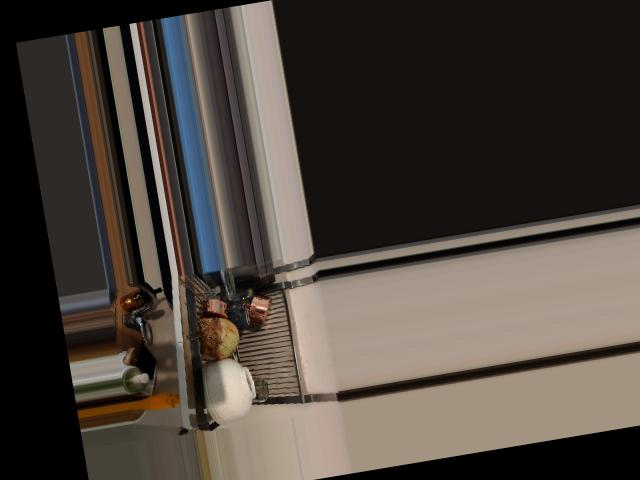onion: (191, 315, 245, 362)
